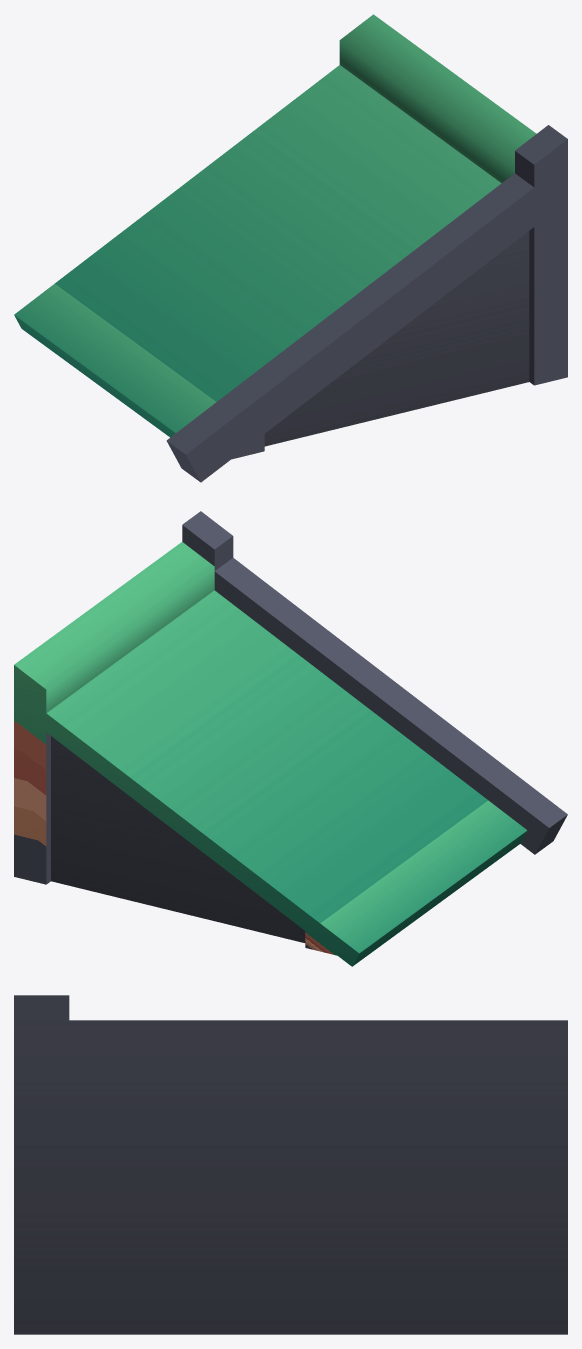
The model's file is roof-right.glb.
The picture shows the model from 3 angles, top to bottom: view 1: azimuth 30°, elevation 25°; view 2: azimuth 150°, elevation 25°; view 3: azimuth 270°, elevation 25°; orthographic projection. The views are drawn at different scales.
Parts seen in each view (by area): view 1: roof-right; view 2: roof-right; view 3: roof-right.
Boxes of the visible parts, bbox=[...] form: roof-right: bbox=[14, 14, 567, 482]; roof-right: bbox=[14, 511, 567, 966]; roof-right: bbox=[14, 995, 567, 1334].
Bounding box in the file's own units: 1.13 × 0.7206 × 1.
Materials: 1 (1 with a texture image).
